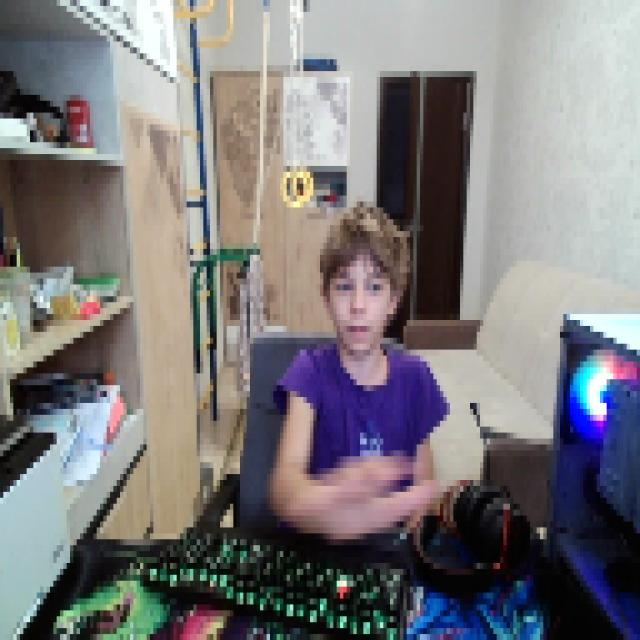hand: (293, 446, 437, 540)
